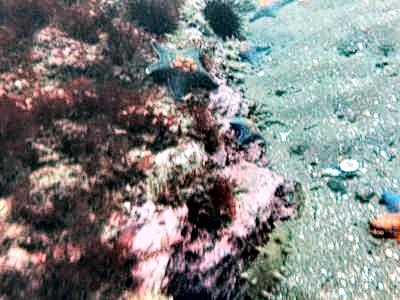urchin: (128, 1, 179, 35), (205, 0, 245, 38)
